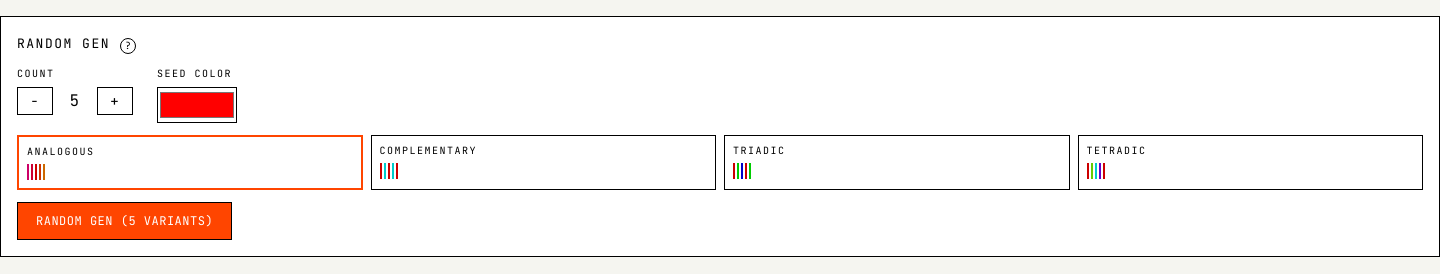
Test: RandomGenControls › HelpIcon next to the panel title surfaces a popover (R12)
The width and height of the screenshot is (1440, 274).
Hover over the button with test id "random-gen-help" at (128, 46), box [120,38,136,54]
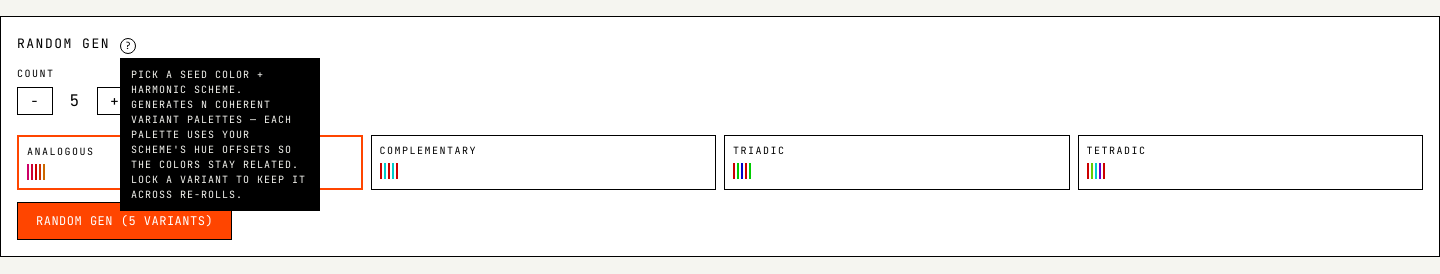
Expected: the tooltip with test id "random-gen-help-popover" shows "seed color", [131,68,306,201]
